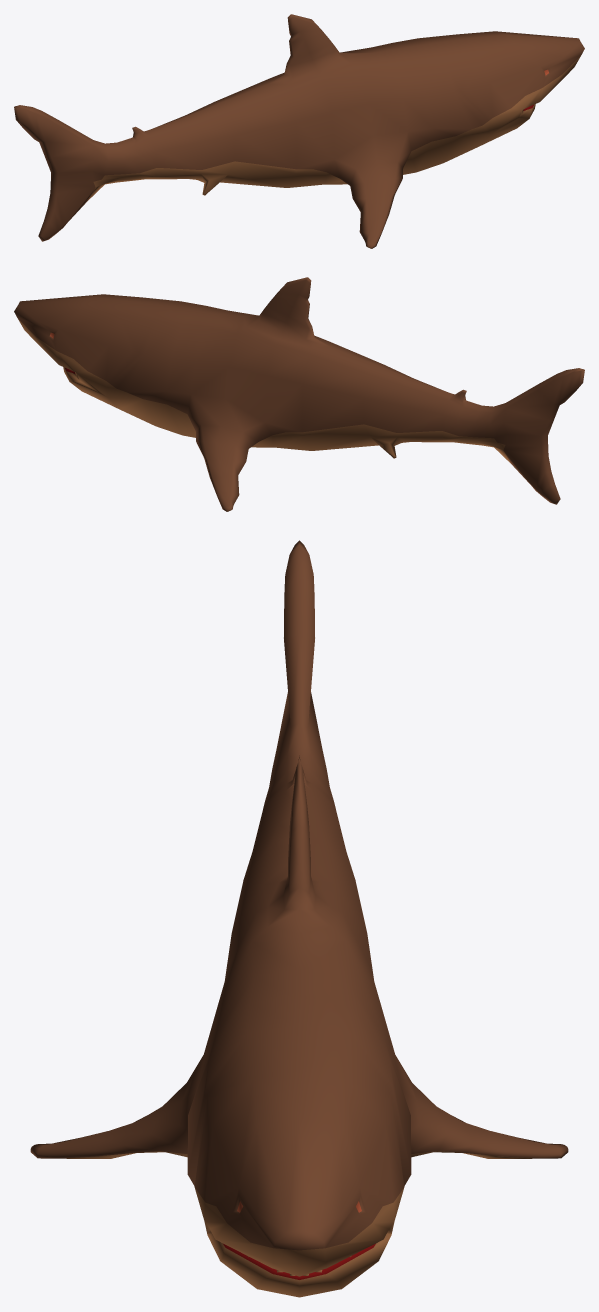
File: SharkV1_1.fbx
3 renders of one model, top to bottom at view 1: azimuth 30°, elevation 25°; view 2: azimuth 150°, elevation 25°; view 3: azimuth 270°, elevation 25°, orthographic. The views are drawn at different scales.
Parts seen in each view (by area): view 1: SharkV1_1; view 2: SharkV1_1; view 3: SharkV1_1.
Part boxes in pixels (bbox=[...]): SharkV1_1: bbox=[14, 14, 584, 248]; SharkV1_1: bbox=[14, 277, 584, 511]; SharkV1_1: bbox=[30, 540, 568, 1297].
Size of the model in its own units: 388 by 124 by 159.
